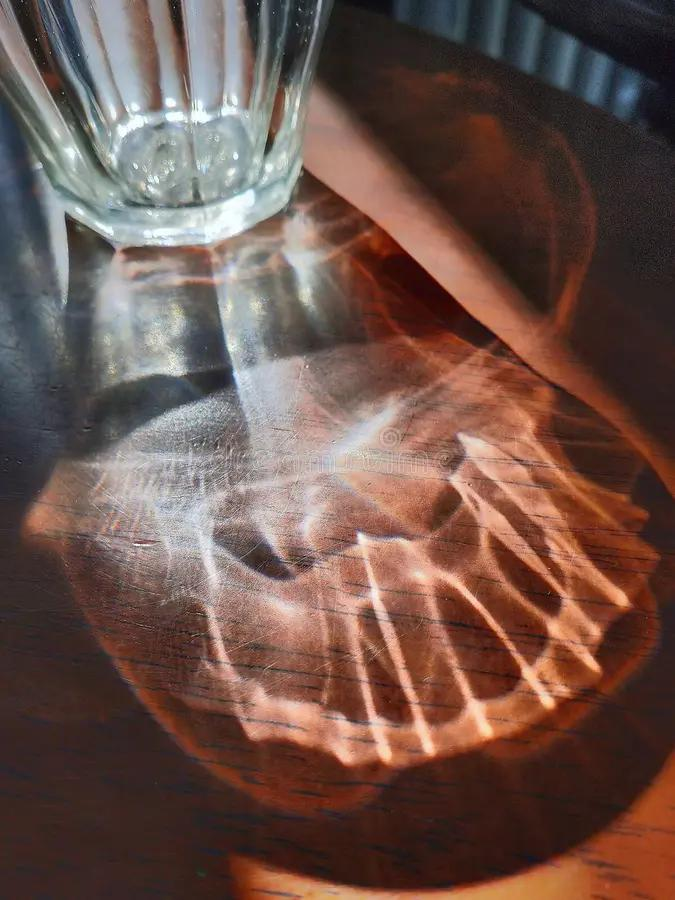controlled_fire: (50, 104, 597, 742)
